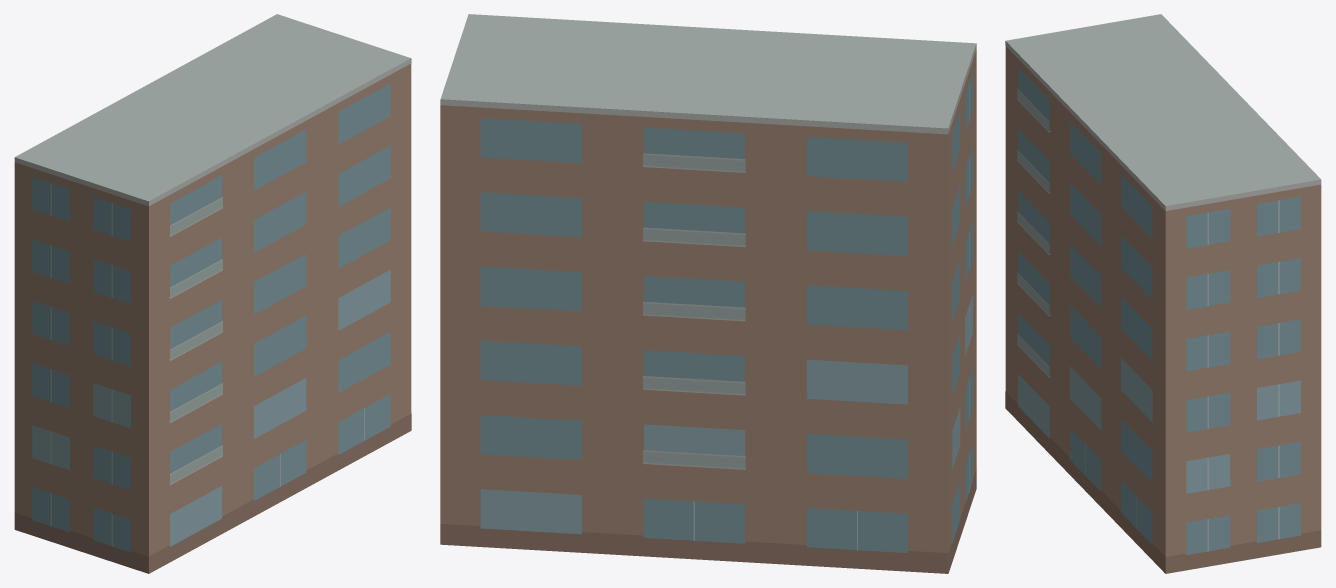
The model's file is survey-upis-32646187.glb.
3 views of the same model, side by side, from view 1: azimuth 30°, elevation 25°; view 2: azimuth 150°, elevation 25°; view 3: azimuth 270°, elevation 25° (orthographic). The views are drawn at different scales.
Visible parts, largest first — view 1: survey-upis-32646187.tmp; view 2: survey-upis-32646187.tmp; view 3: survey-upis-32646187.tmp.
Part boxes in pixels (box(x1,y1,x2,y2)): survey-upis-32646187.tmp: box(14, 14, 411, 573); survey-upis-32646187.tmp: box(440, 14, 976, 573); survey-upis-32646187.tmp: box(1005, 14, 1321, 573).
Size of the model in its own units: 20.53 by 18.3 by 14.26.
